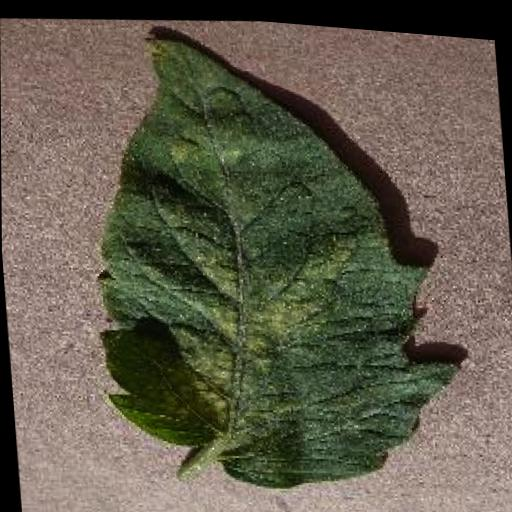Spider Mites: (77, 6, 472, 508)
